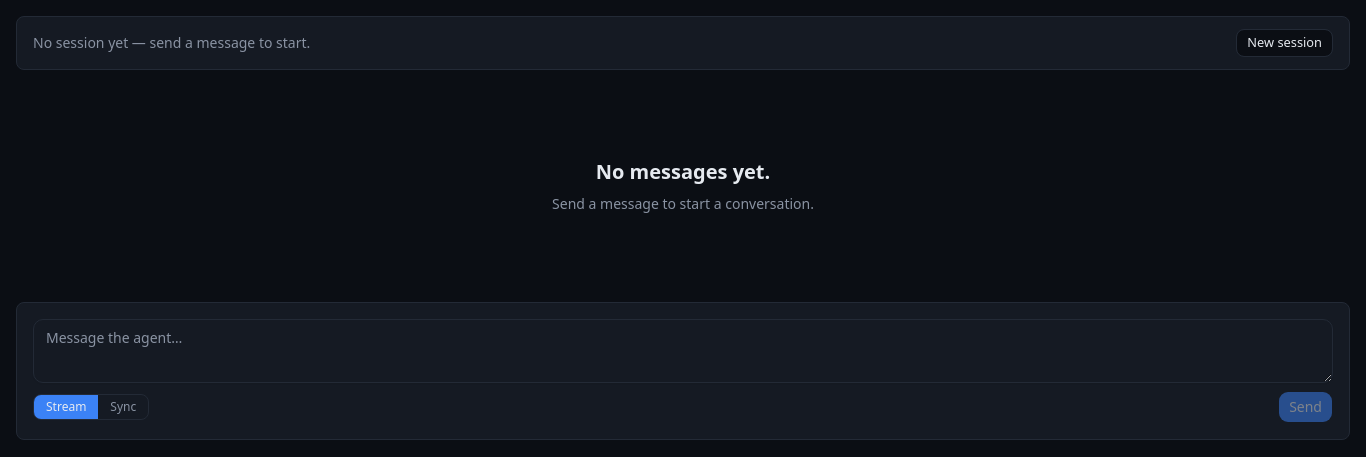
Test: ChatPage — bare/empty answer (Pitfall 5) › renders a muted "(no answer returned)" rather than a blank bubble (sync)
Step 1. Click the button "Sync" → point(123, 407), box [98,395,148,419]
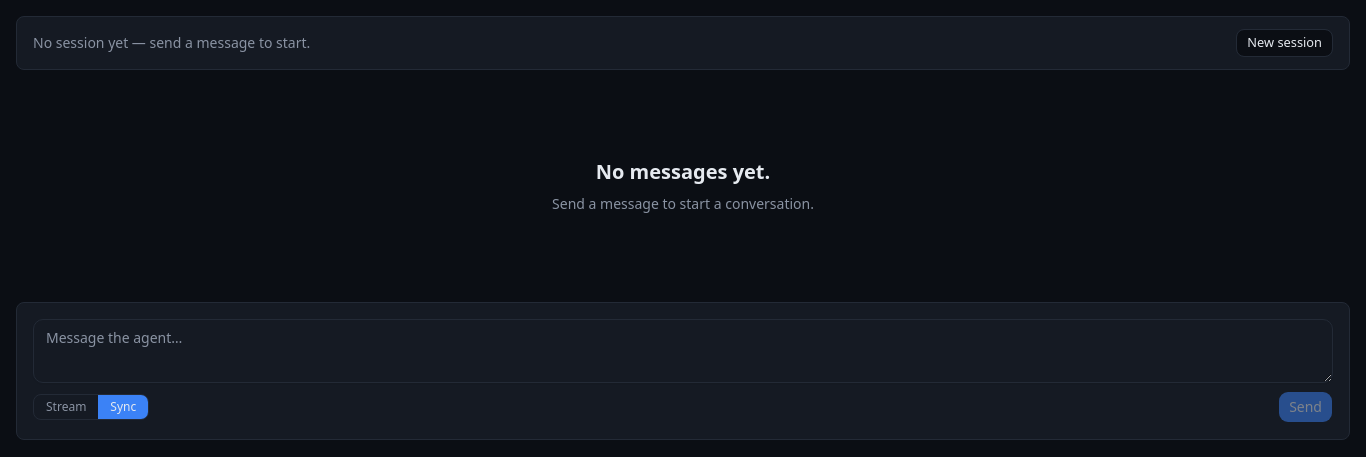
Step 2. Type "hi" into the text box labelled "Message the agent" → point(683, 351), box [33,319,1333,383]
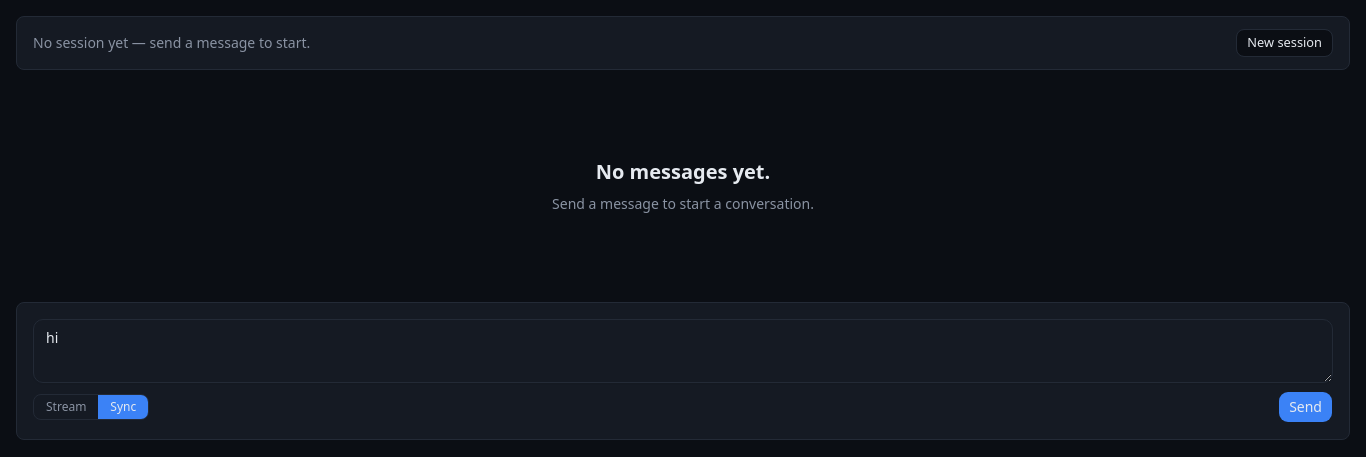
Step 3. Click the button "Send" → point(1306, 407), box [1278,391,1333,423]
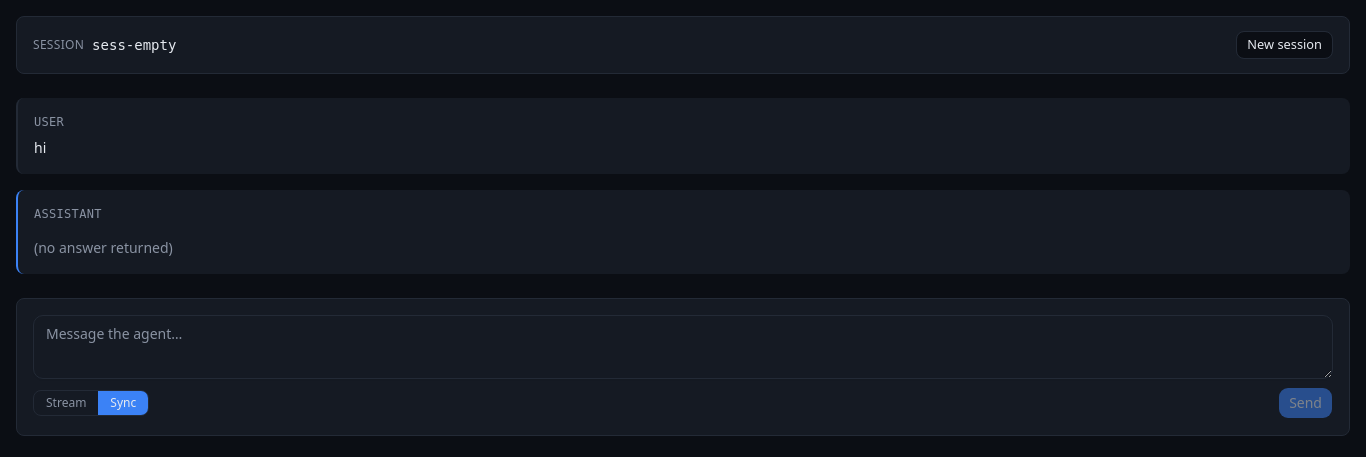
Result: the text "(no answer returned)" is shown at [34,238,173,257]
